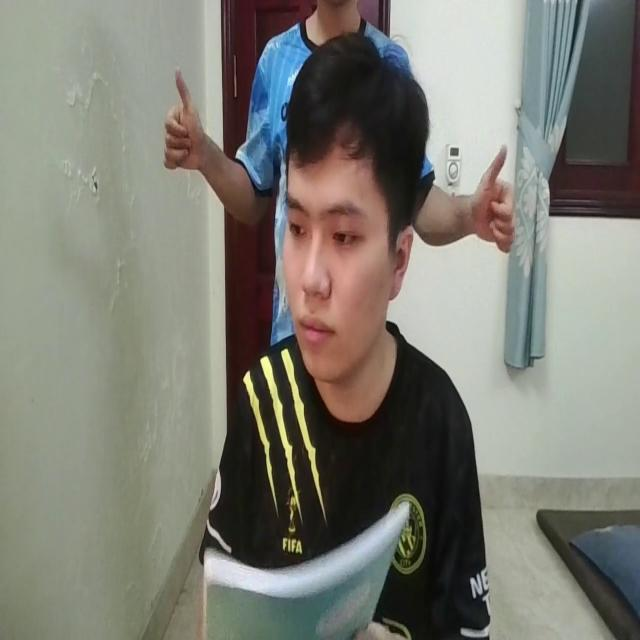book: (203, 509, 416, 618)
extra_person: (160, 0, 512, 285)
student: (214, 37, 482, 640)
